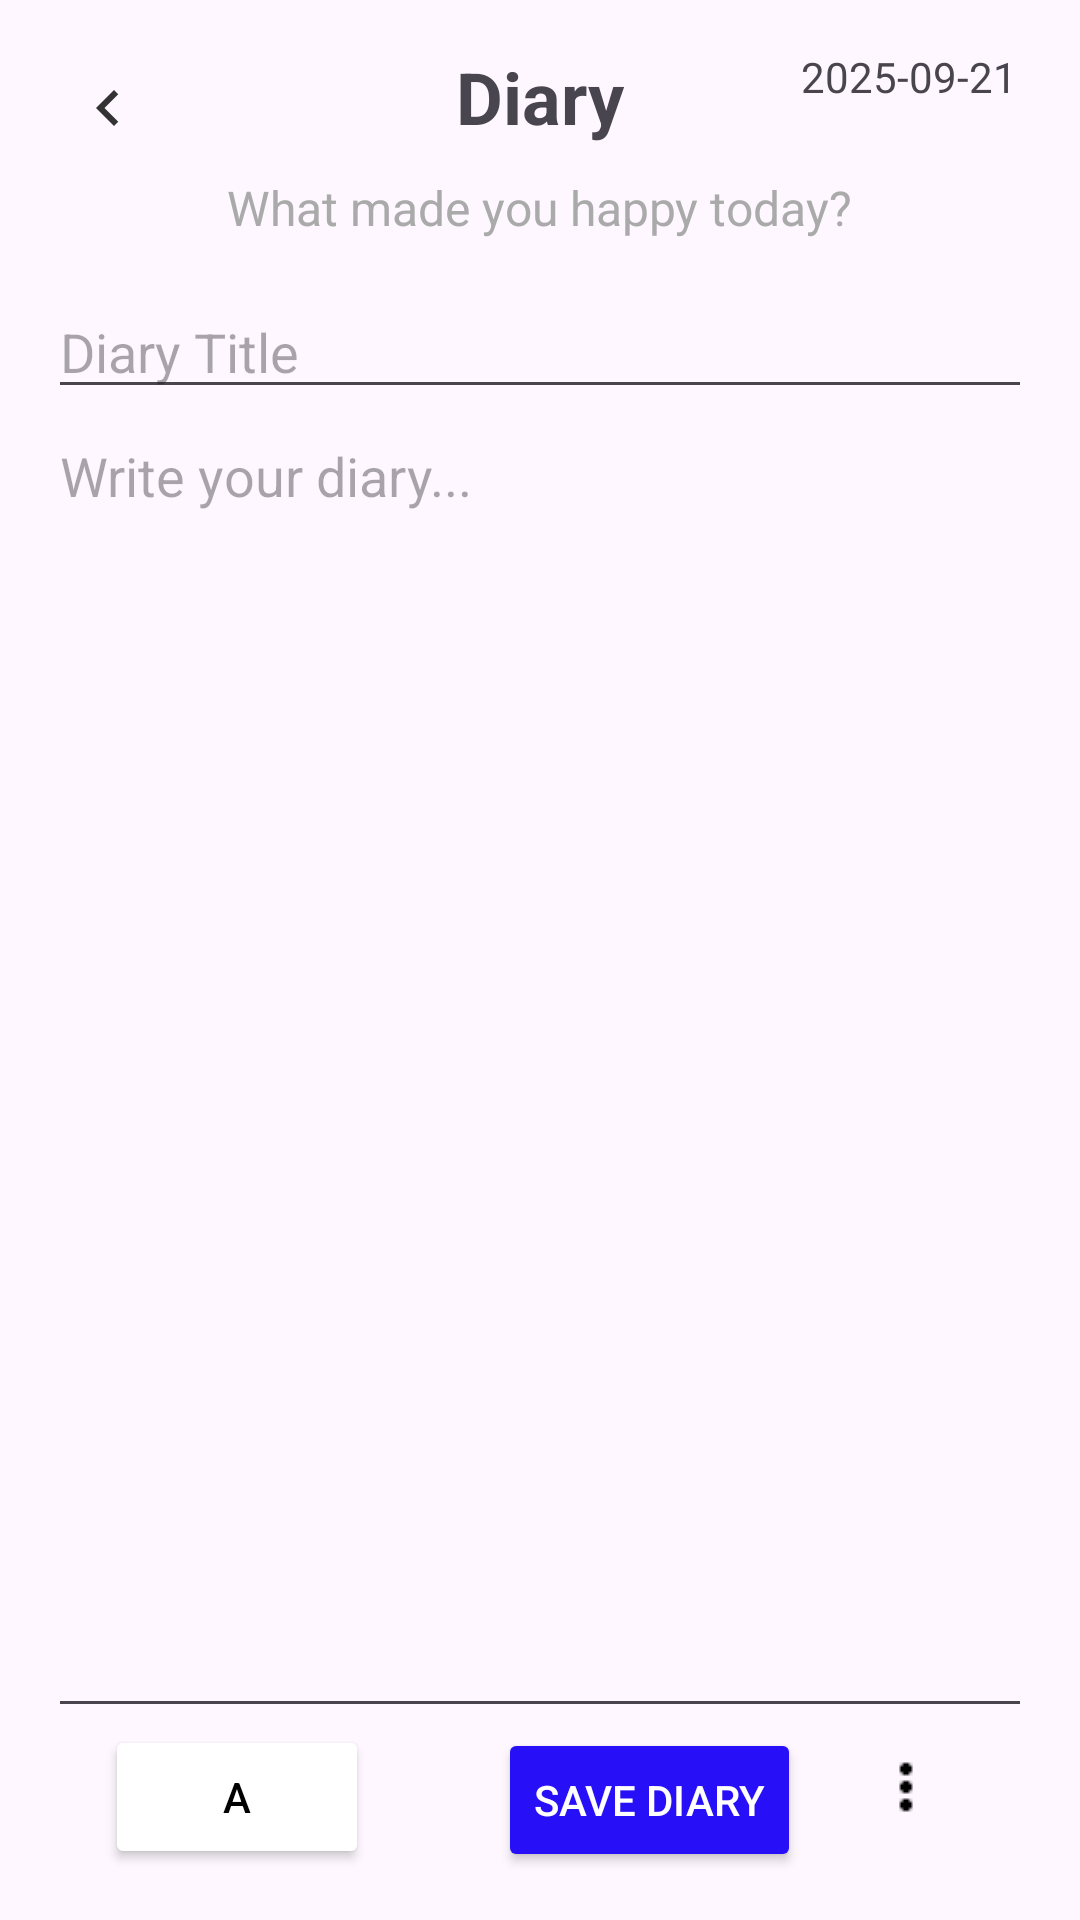

Locate icon controls on the screen. Image size 1080w x 1920h, boxes as (x1, y1, x2, y2).
Back: (96, 90, 118, 126)
menu: (899, 1762, 913, 1812)
